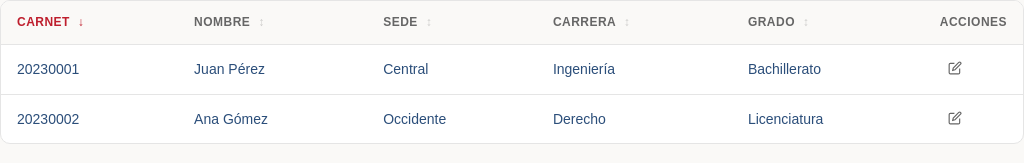
Test: StudentTable › opens edit mode when clicking edit button
Click the button named "Editar estudiante Juan Pérez".
click(955, 68)  # box x1=940 y1=57 x2=970 y2=79
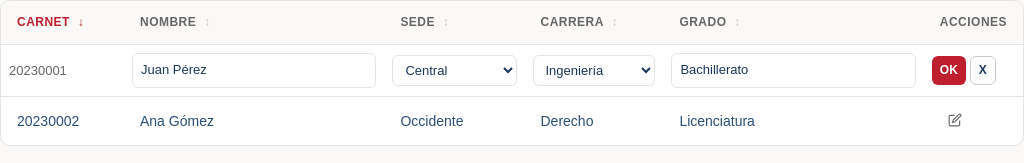
Check: the 1st field showing "Juan Pérez" is shown, box x1=132 y1=53 x2=376 y2=88
Check: the 1st dropdown showing "Central" is shown, box x1=392 y1=55 x2=516 y2=86
Check: the 2nd dropdown showing "Ingeniería" is shown, box x1=532 y1=55 x2=655 y2=86
